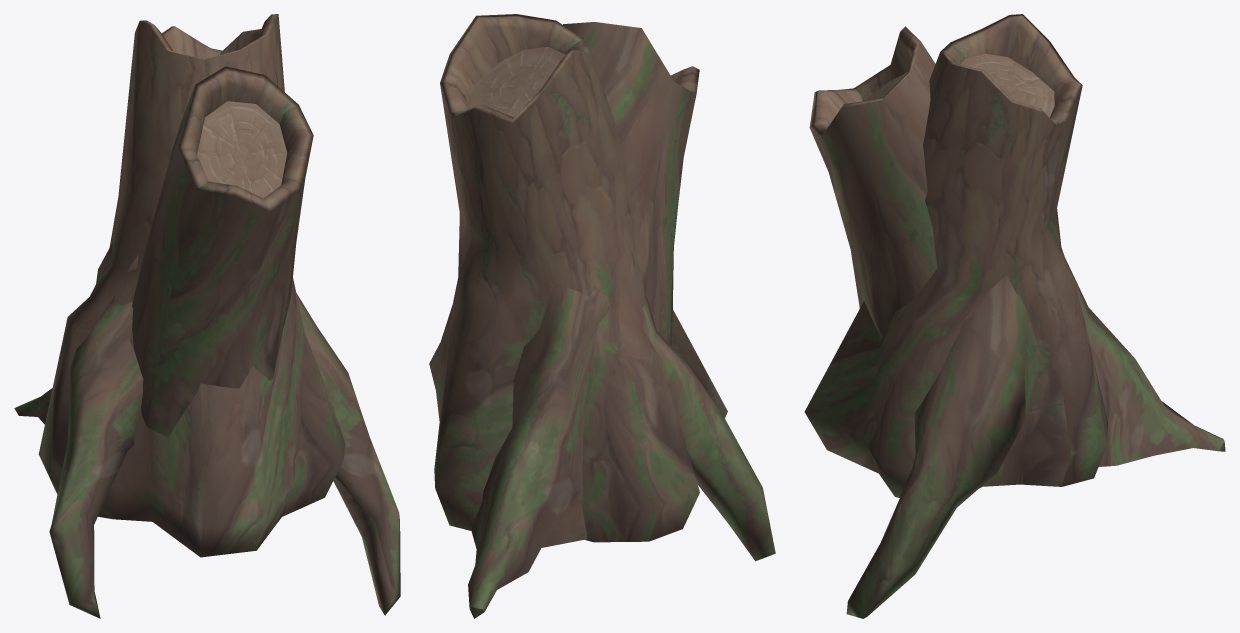
File: SM_EastLands_Conifer_Multi_02_Stump.fbx
3 renders of one model, left to right at view 1: azimuth 30°, elevation 25°; view 2: azimuth 150°, elevation 25°; view 3: azimuth 270°, elevation 25°, orthographic. The views are drawn at different scales.
Visible parts, largest first — view 1: SM_EastLands_Conifer_Multi_02_Stump_LOD0; view 2: SM_EastLands_Conifer_Multi_02_Stump_LOD0; view 3: SM_EastLands_Conifer_Multi_02_Stump_LOD0.
Boxes of the visible parts, left/top/right/bottom form: SM_EastLands_Conifer_Multi_02_Stump_LOD0: left=14, top=14, right=400, bottom=618; SM_EastLands_Conifer_Multi_02_Stump_LOD0: left=429, top=14, right=775, bottom=618; SM_EastLands_Conifer_Multi_02_Stump_LOD0: left=804, top=14, right=1225, bottom=618.
Bounding box in the file's own units: 273 × 441 × 317.
